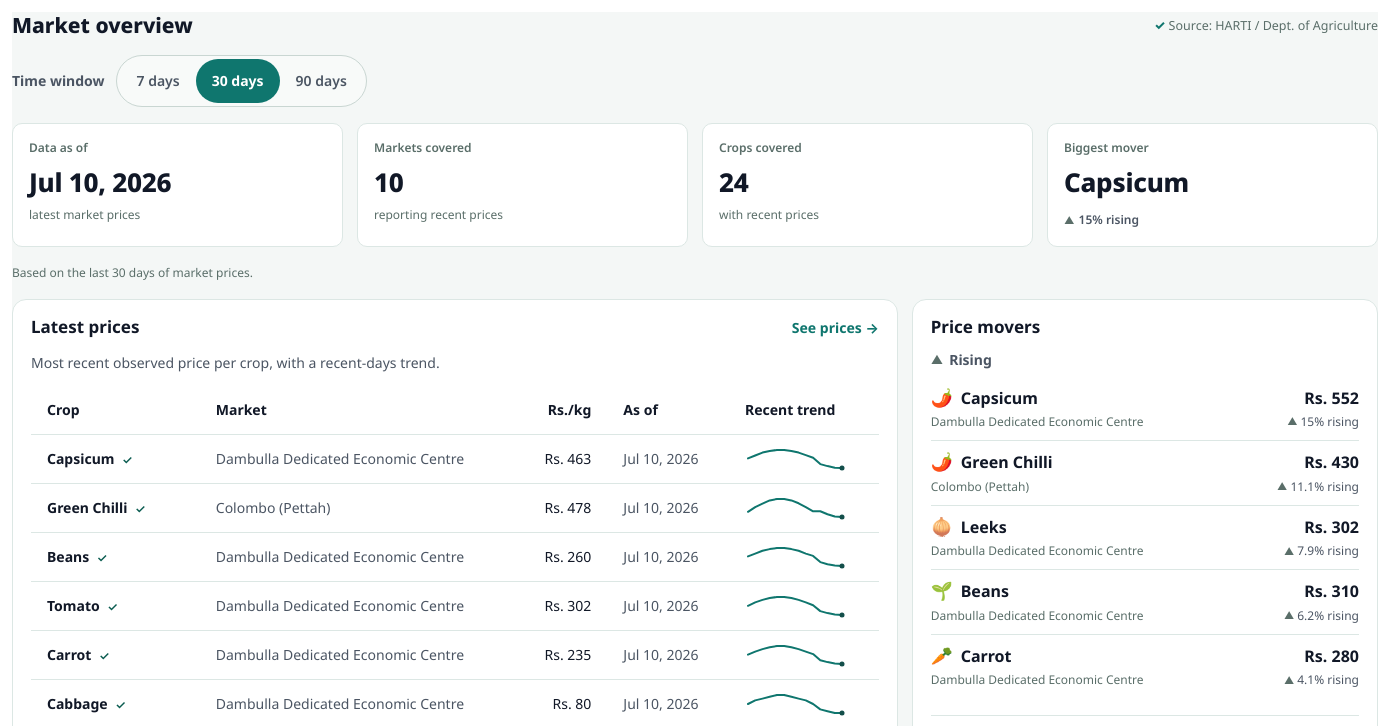
OverviewPage — window selector (FE-15) › defaults to 30 days and refetches with the chosen window; caption follows the served value
Expected: the text "Data as of" is shown, [29, 139, 88, 156]
Expected: the text "Based on the last 30 days of market prices." is shown, [12, 264, 253, 281]
// switch to 7 days
Click the button "7 days" at (158, 81), box [120, 59, 196, 103]
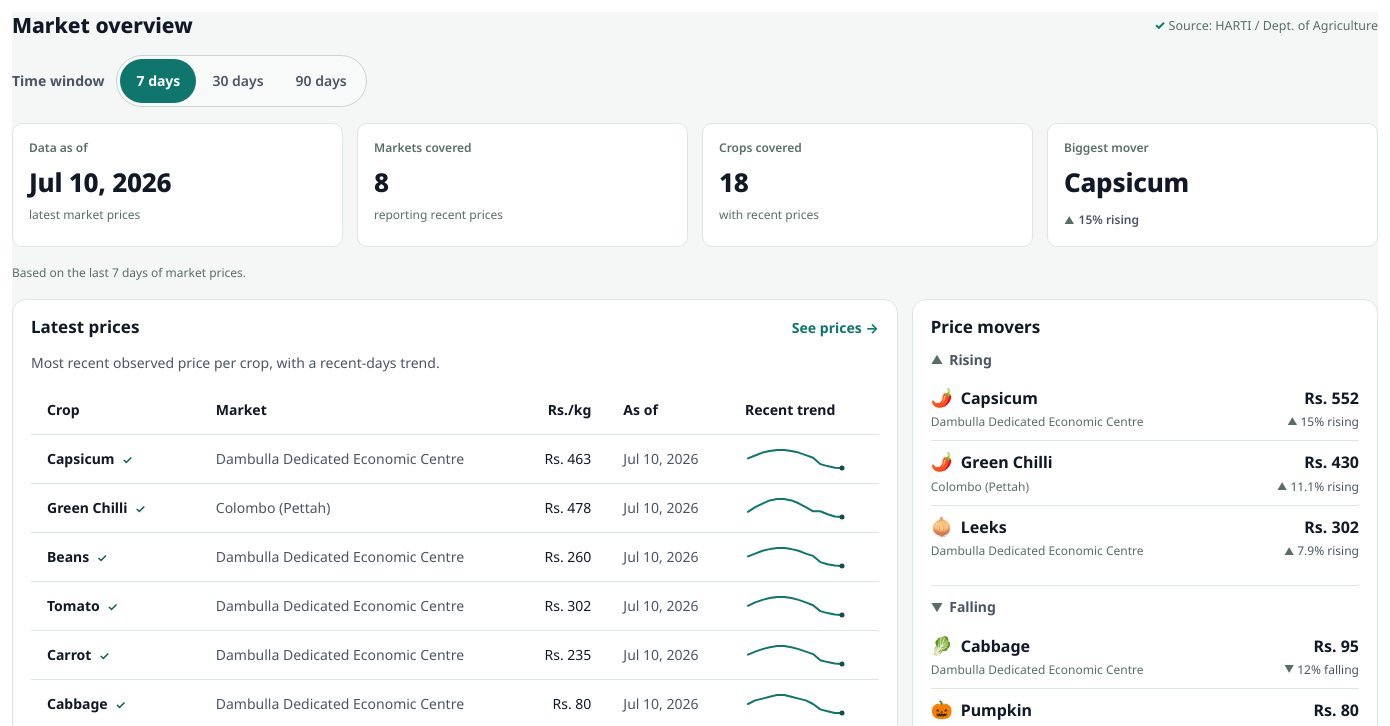
Expected: the text "Based on the last 7 days of market prices." is shown, [12, 264, 246, 281]
